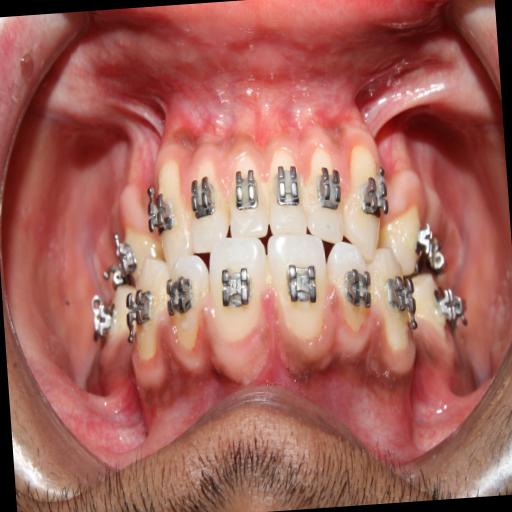correct_brace: (338, 254, 374, 316), (356, 159, 388, 224), (310, 161, 342, 226), (274, 158, 304, 218), (188, 170, 221, 224), (232, 166, 264, 216), (166, 271, 196, 320)
incorrect_brace: (327, 237, 376, 334), (163, 252, 211, 348), (184, 154, 230, 254), (302, 142, 344, 242)
